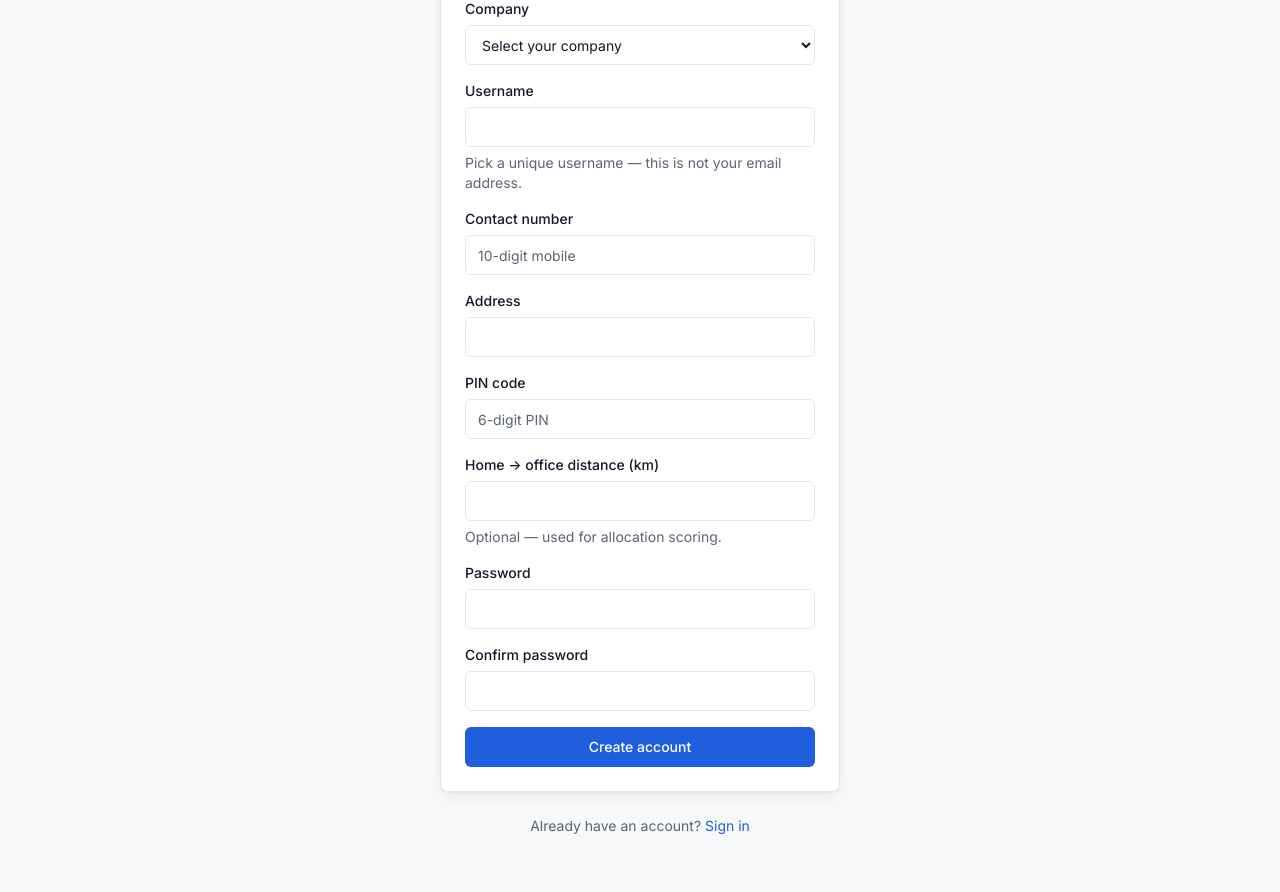
Test: RegisterPage › validates required fields
The image size is (1280, 892).
(page scrolled)
Click the button "Create account". click: [640, 747]
box: [465,727,815,767]
(page scrolled)
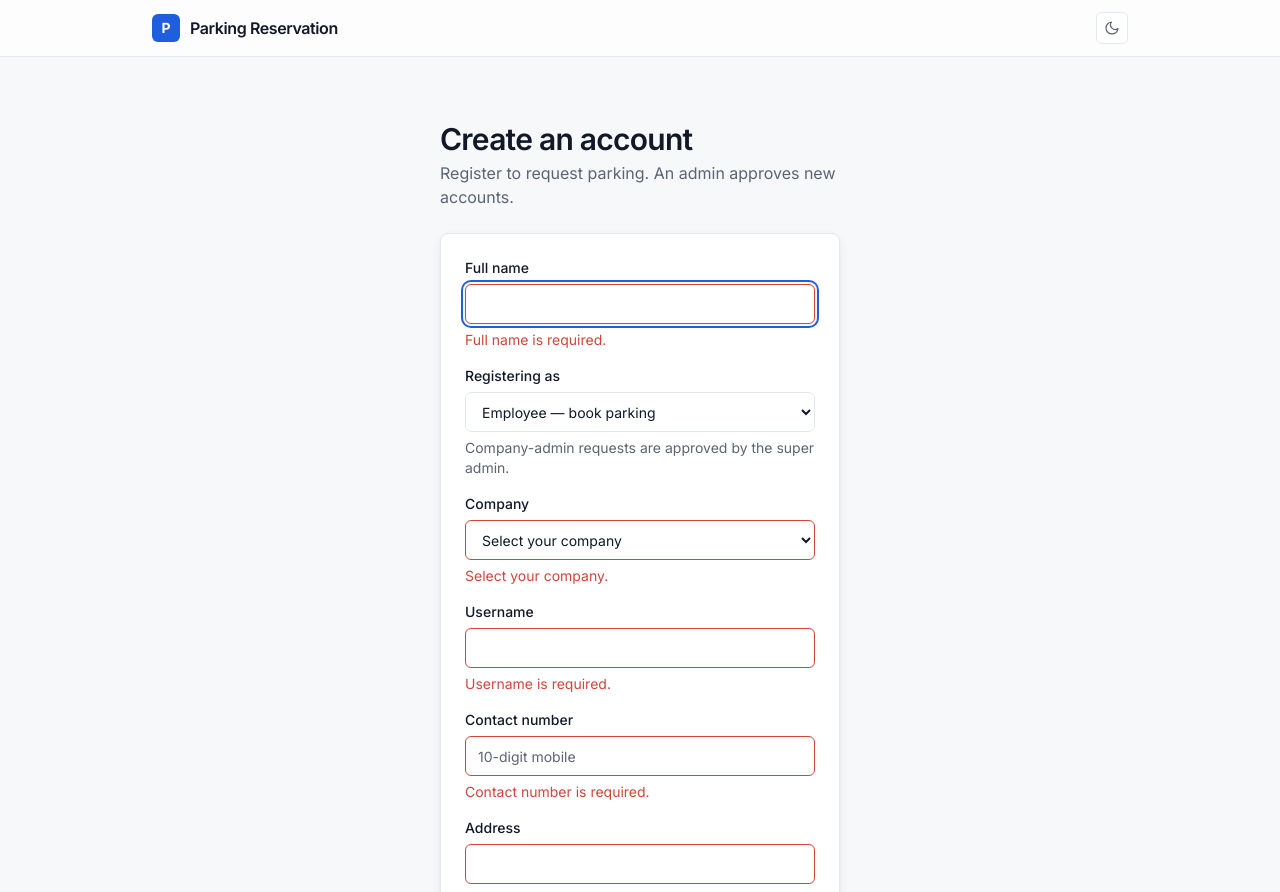
Result: the text "Full name is required." is shown at [465,331,606,348]
Result: the text "Username is required." is shown at [465,675,611,692]
